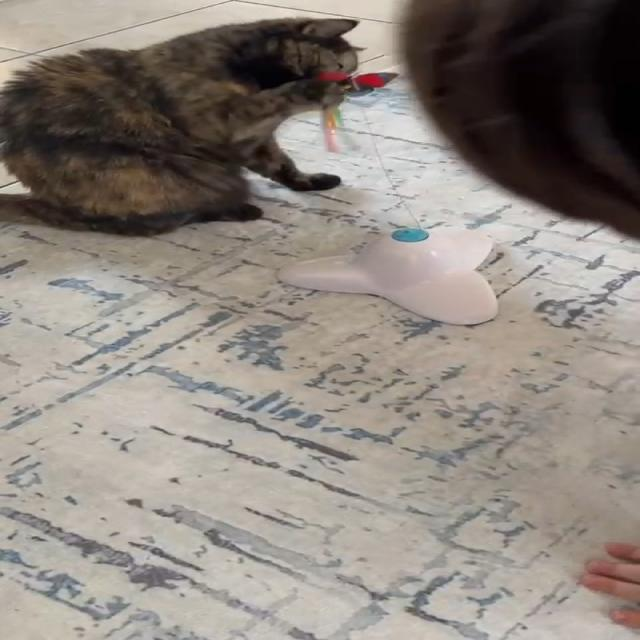authorized: (0, 16, 367, 237)
